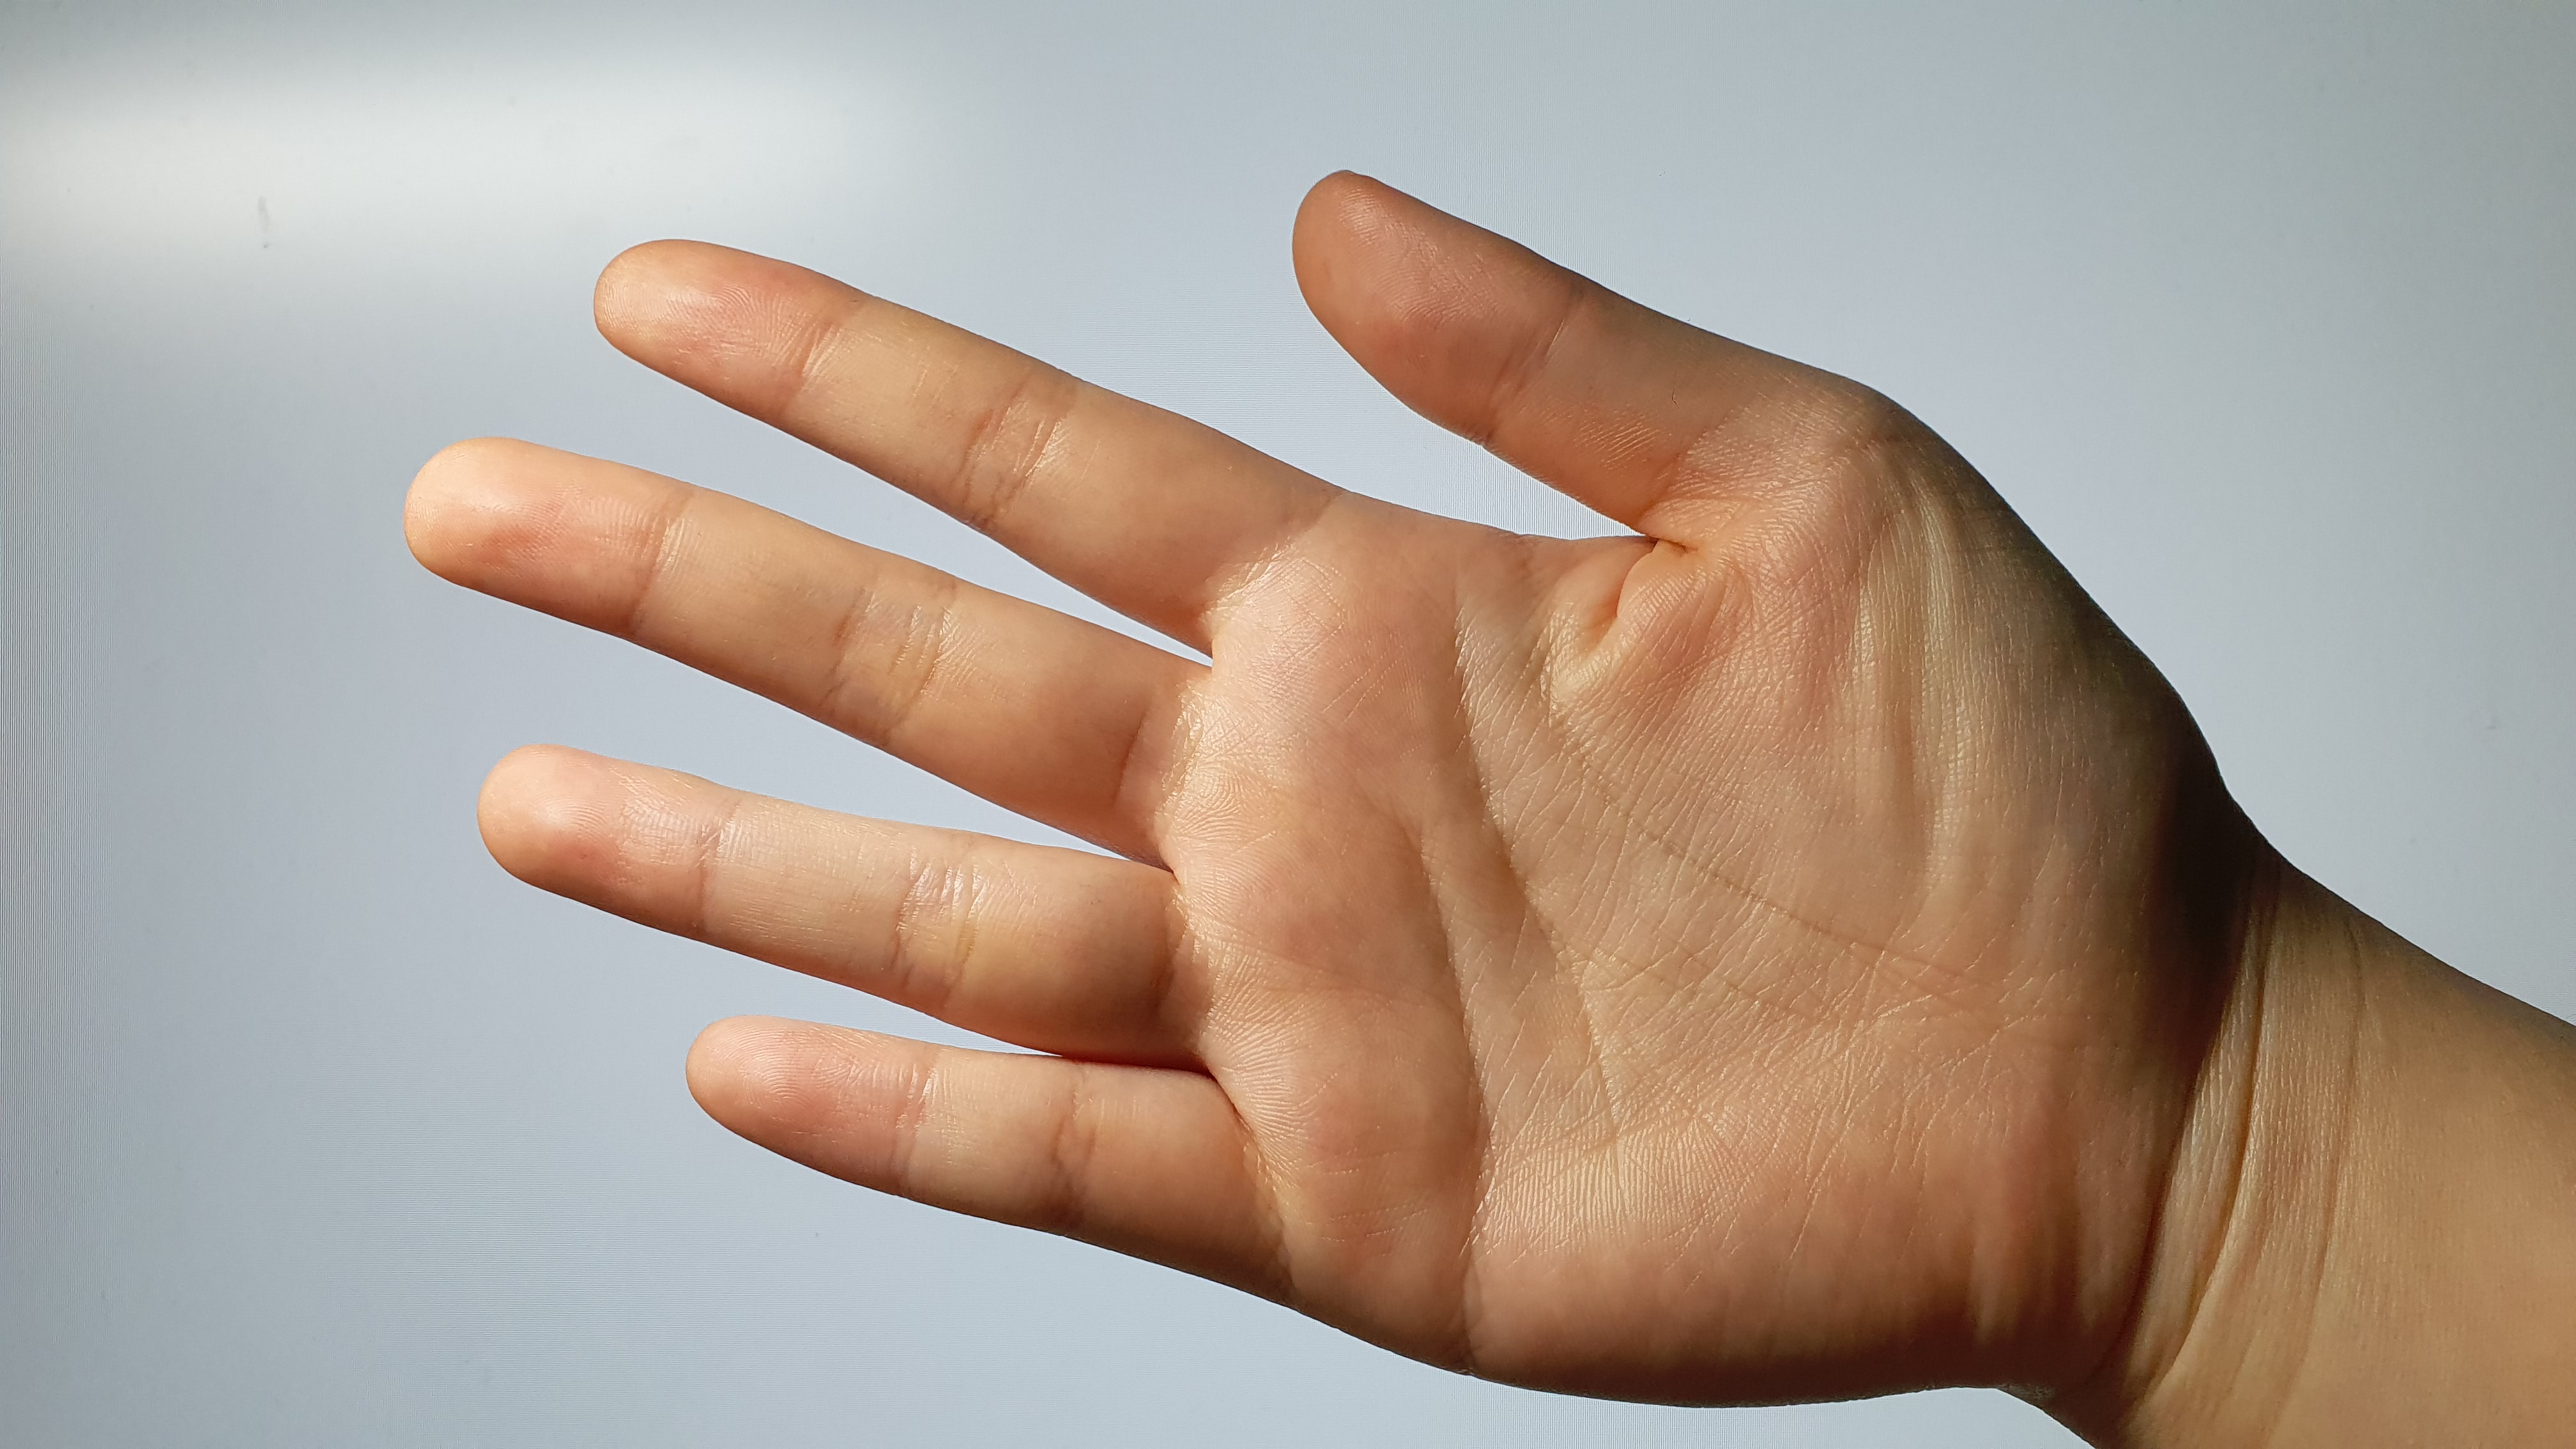hand: (391, 150, 2166, 1426)
index finger: (577, 230, 1277, 660)
middle finger: (382, 421, 1184, 853)
palm: (1168, 492, 2157, 1422)
pinky: (678, 1016, 1293, 1307)
ring finger: (462, 741, 1237, 1088)
thumb: (1281, 154, 1783, 552)
